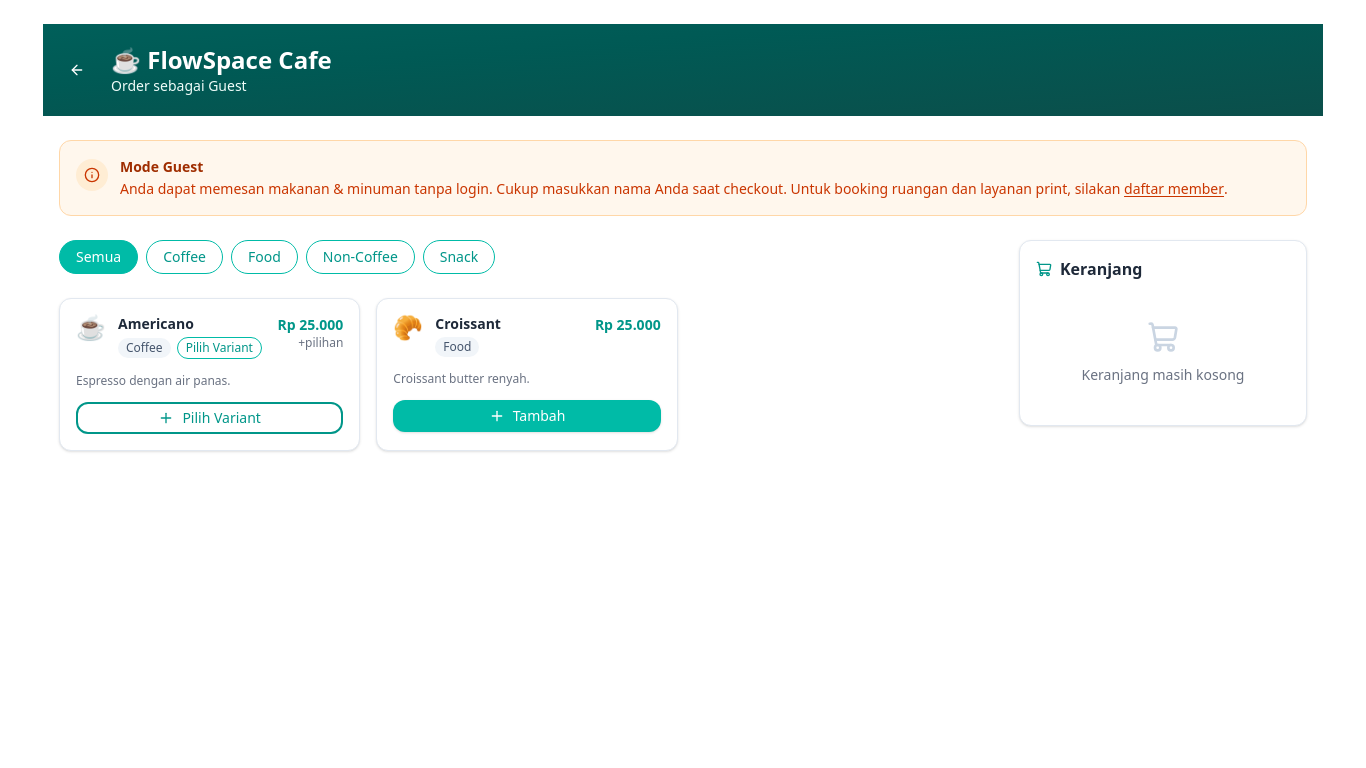
Test: GuestCafeClient (AC-101) › AC-102: shows mapped Indonesian error when placeOrder rejects with INVALID_MENU_ITEMS
Note: Add croissant (no variant) to cart via "Tambah" button
Step 1. Click the button "Tambah" → (527, 416), box [393,400,661,432]
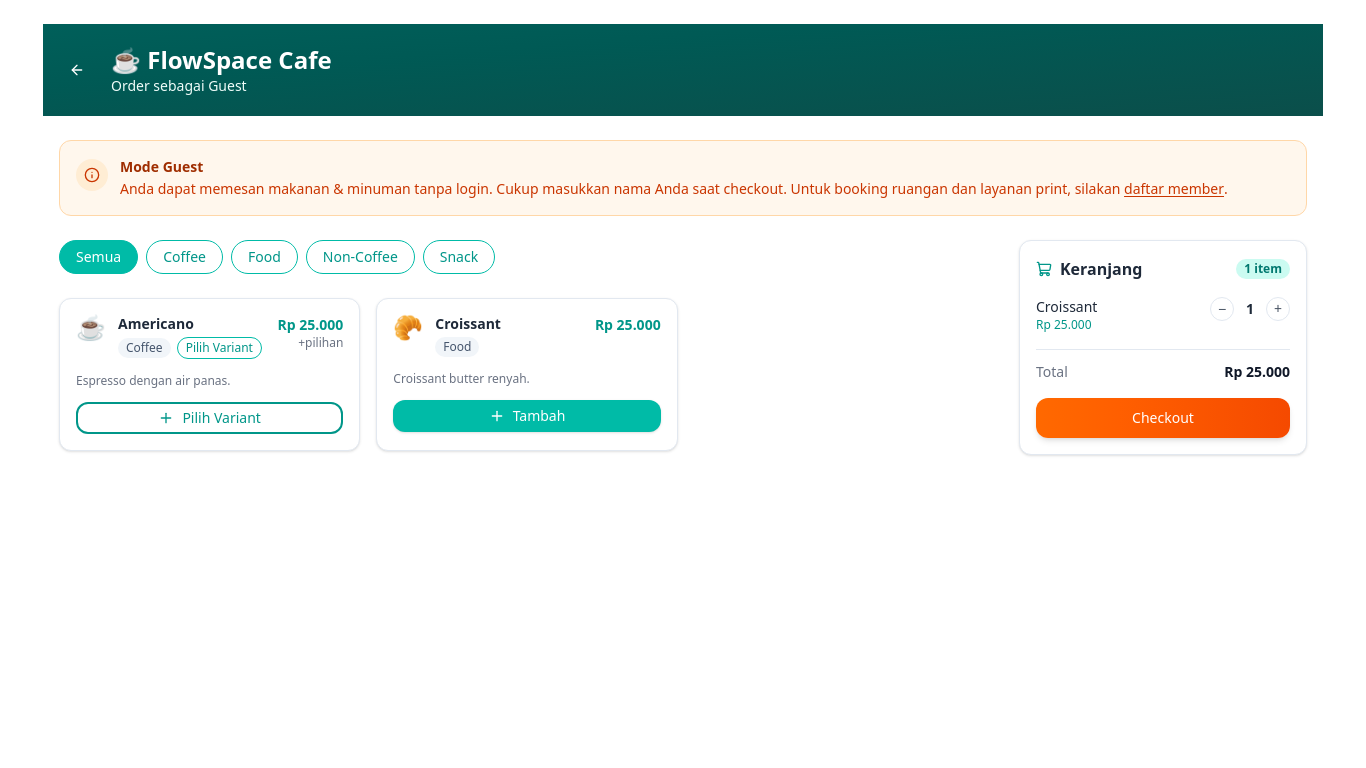
Note: Open checkout modal via visible cart panel "Checkout" button
Step 2. Click the button "Checkout" → (1163, 418), box [1036,398,1290,438]
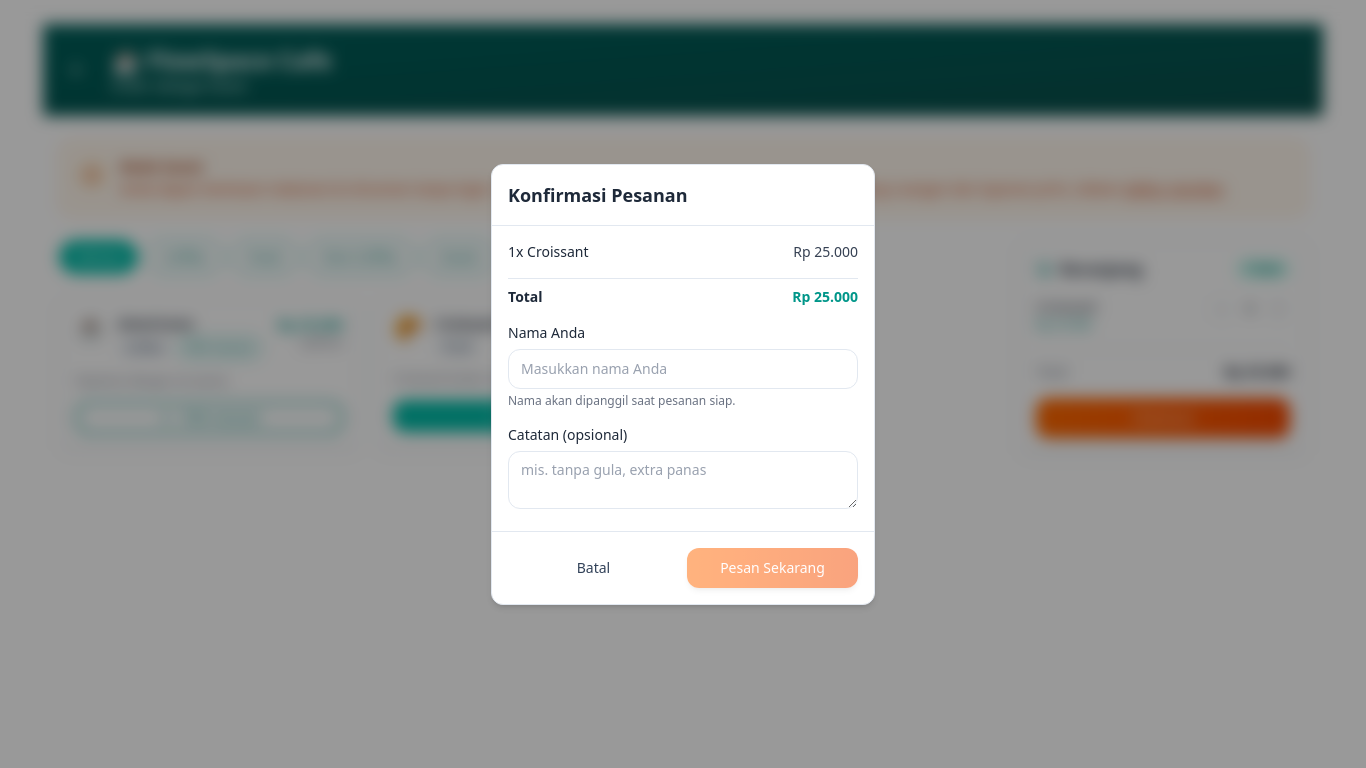
Note: Fill in guest name
Step 3. Type "Budi" into the field with placeholder "Masukkan nama Anda" → (683, 368), box [508,348,858,388]
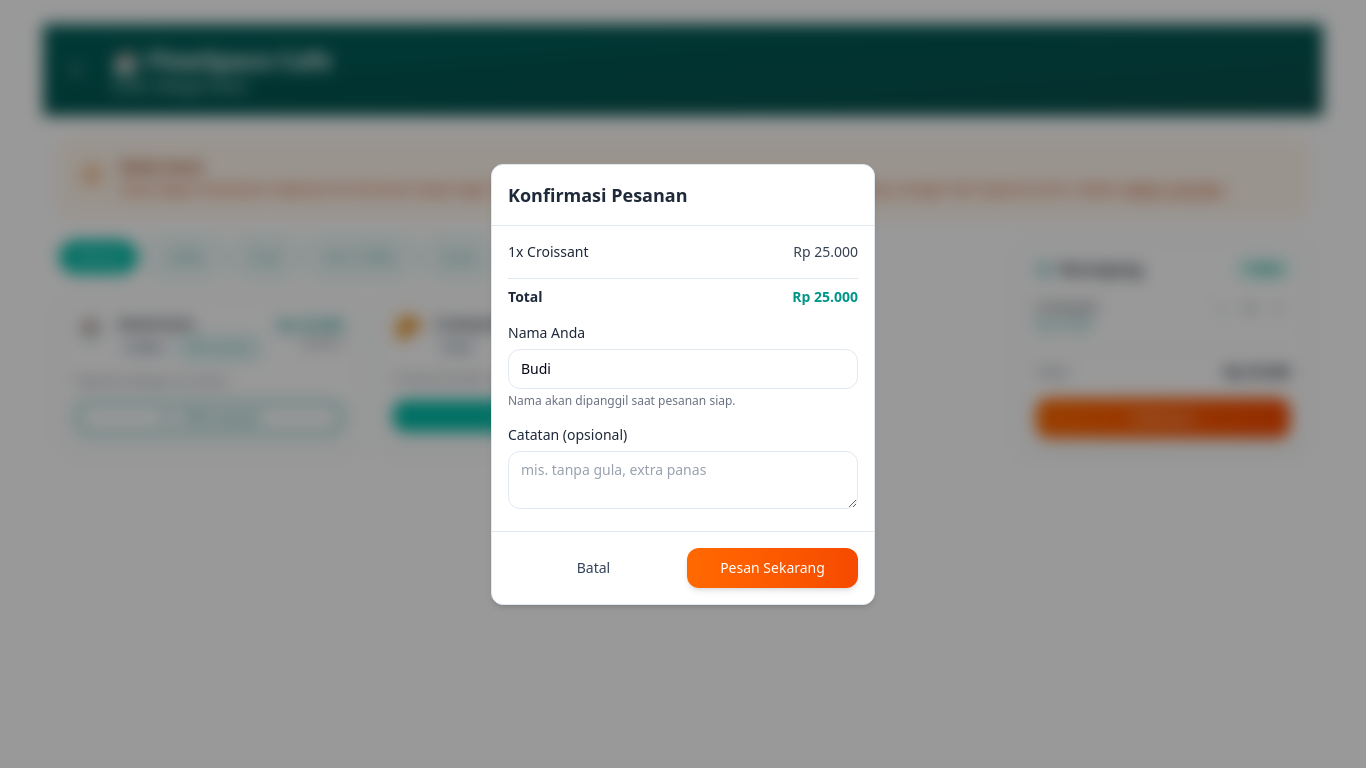
Note: Submit order
Step 4. Click the button "Pesan Sekarang" → (772, 568), box [687,548,858,588]
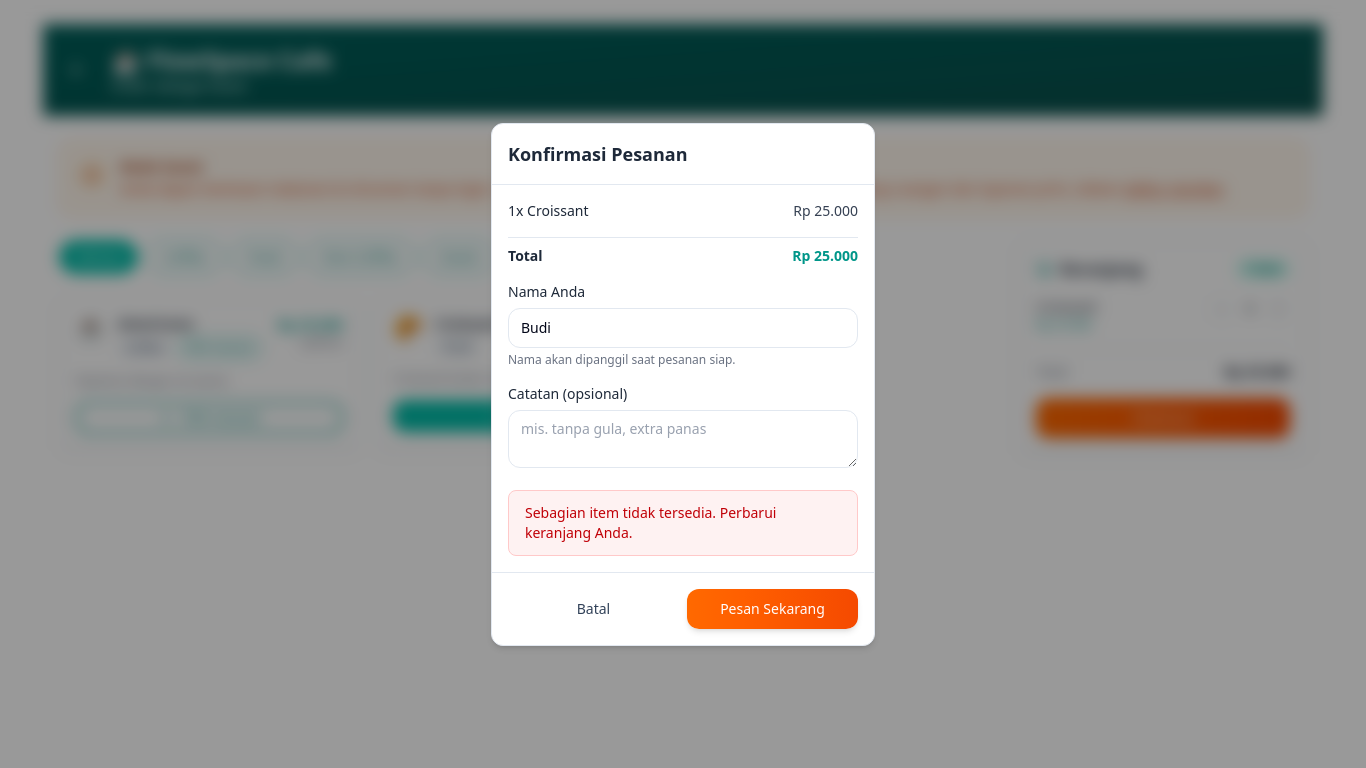
Now the button "Pesan Sekarang" is enabled, box [687,588,858,628]
Now the message shows "Sebagian item tidak tersedia", box [525,502,776,542]
